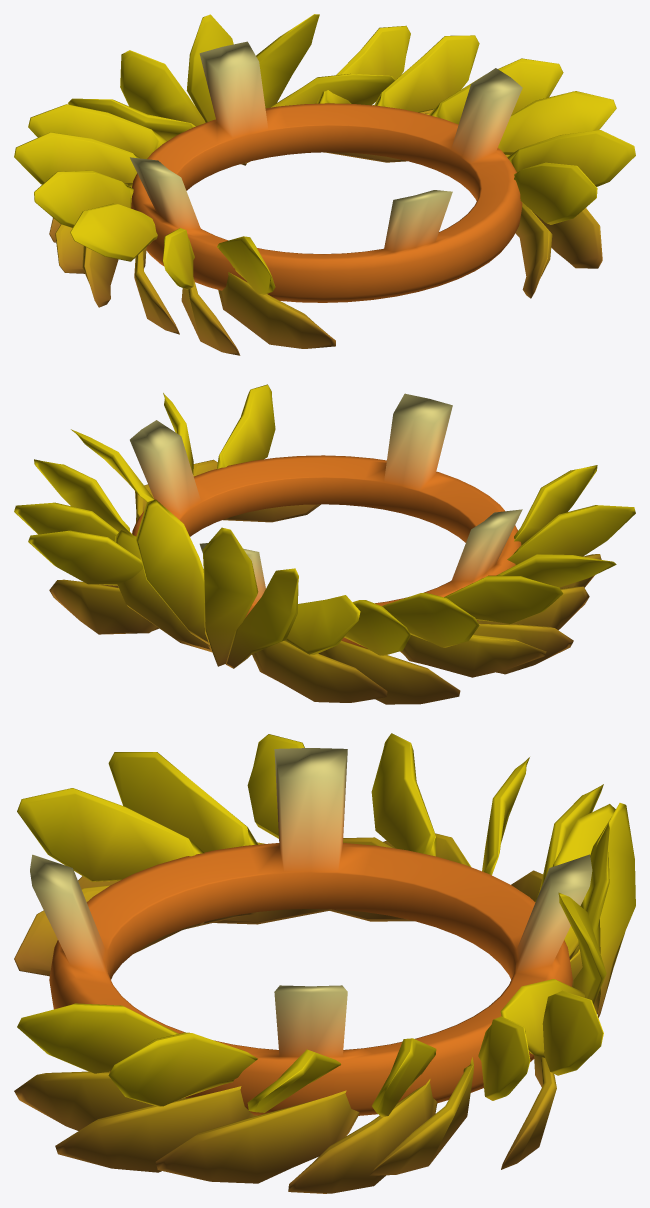
The model's file is венок зевс.fbx.
3 views of the same model, one above another, from view 1: azimuth 30°, elevation 25°; view 2: azimuth 150°, elevation 25°; view 3: azimuth 270°, elevation 25° (orthographic). The views are drawn at different scales.
Visible parts, largest first — view 1: Cube.009, Torus; view 2: Cube.009, Torus; view 3: Cube.009, Torus.
Boxes of the visible parts, box(x1,y1,x2,y2) form: Cube.009: box(14, 14, 635, 355); Torus: box(130, 41, 522, 302); Cube.009: box(14, 384, 635, 704); Torus: box(130, 393, 522, 648); Cube.009: box(14, 733, 635, 1193); Torus: box(30, 748, 592, 1115).
Size of the model in its own units: 1460 by 420 by 1064.
